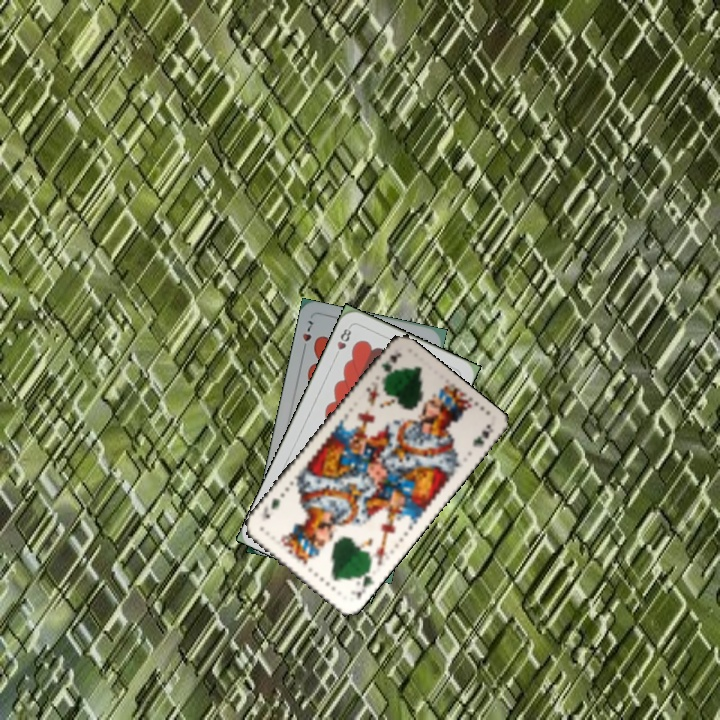GK: (352, 566, 376, 603), (377, 349, 404, 375)
H7: (298, 316, 315, 355)
H8: (331, 322, 354, 361)
